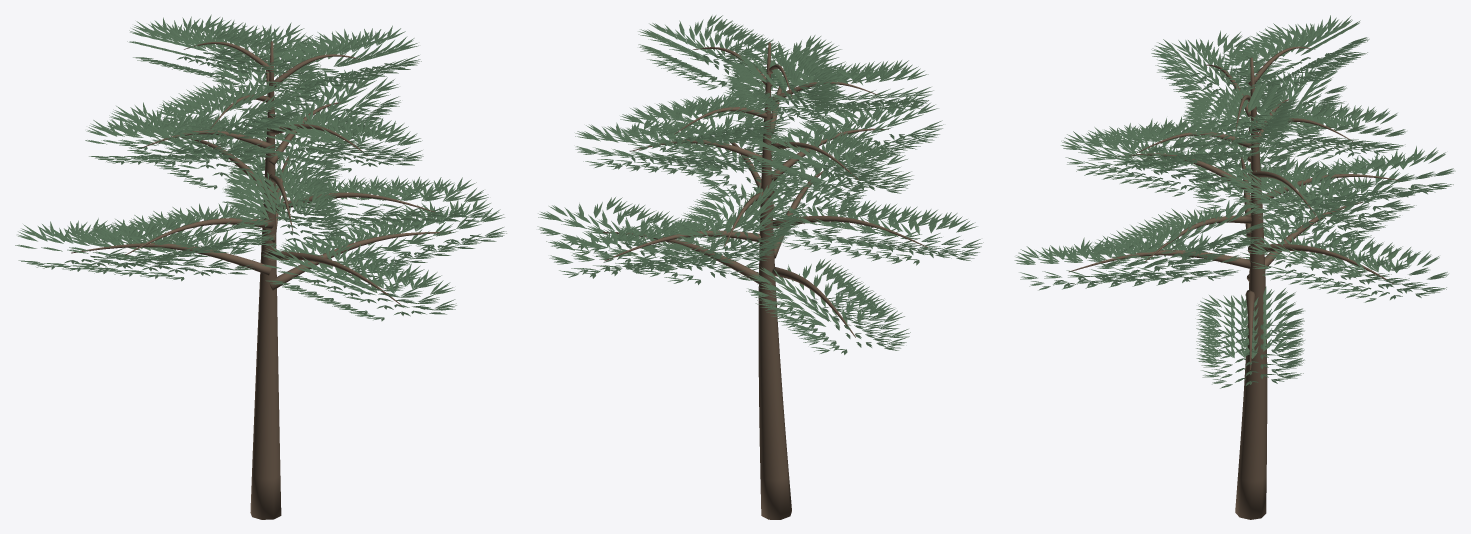
Rendered from pine-lod0.glb.
The picture shows the model from 3 angles, left to right: view 1: azimuth 30°, elevation 25°; view 2: azimuth 150°, elevation 25°; view 3: azimuth 270°, elevation 25°; orthographic projection. The views are drawn at different scales.
Parts seen in each view (by area): view 1: three dimensional leaves, rooted trunk and branch hierarchy; view 2: three dimensional leaves, rooted trunk and branch hierarchy; view 3: three dimensional leaves, rooted trunk and branch hierarchy.
Part boxes in pixels (bbox=[...]): three dimensional leaves: bbox=[15, 14, 506, 321]; rooted trunk and branch hierarchy: bbox=[71, 41, 450, 519]; three dimensional leaves: bbox=[537, 15, 983, 354]; rooted trunk and branch hierarchy: bbox=[603, 42, 927, 519]; three dimensional leaves: bbox=[1014, 15, 1455, 388]; rooted trunk and branch hierarchy: bbox=[1069, 46, 1398, 519].
Size of the model in its own units: 7.14 by 7.48 by 6.55.
